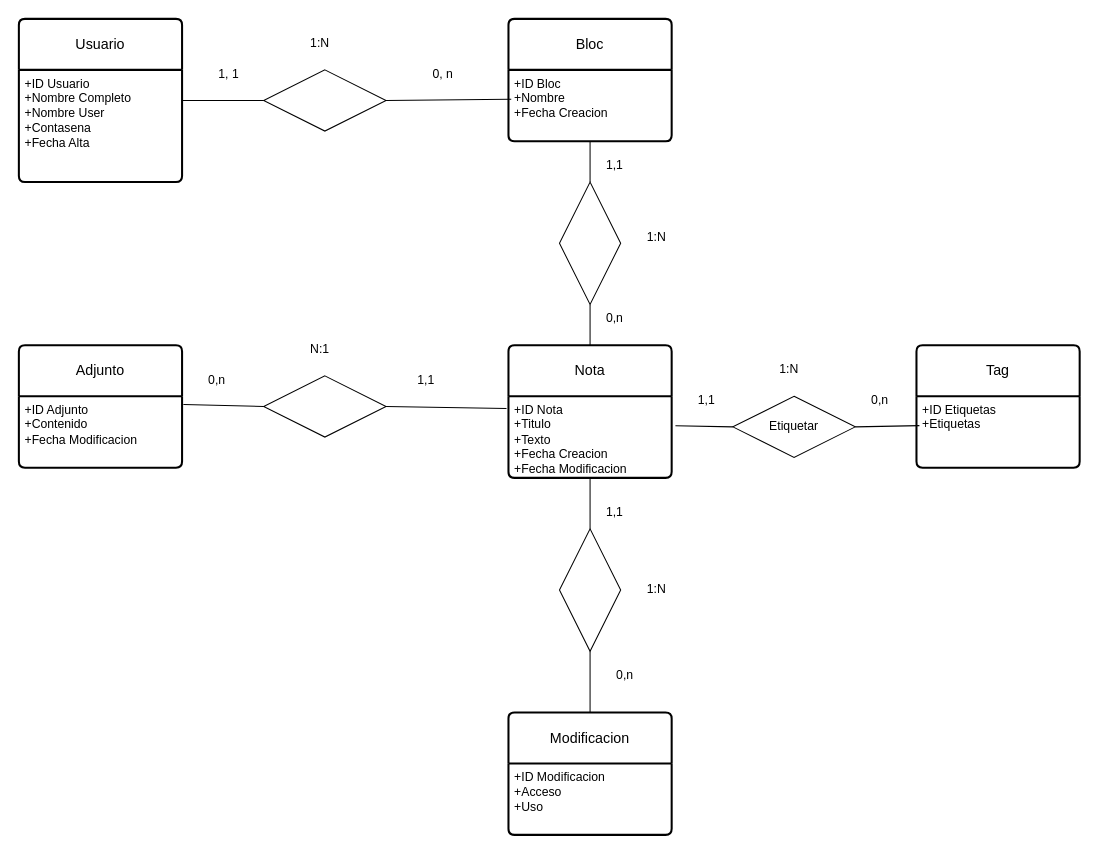
Image size: 1098x853. Some labels were removed from this diagram. The shapes that lost their labels are listed below. From the top down, each one's centre as x and y in pixels, then its label:
At (x=324, y=100): "Crear".
At (x=589, y=242): "Contener".
At (x=324, y=406): "Tener".
At (x=589, y=589): "Modificar".
